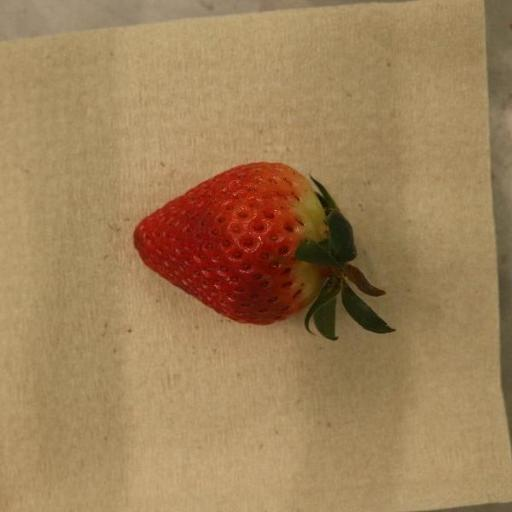Strawberry: (133, 162, 398, 341)
